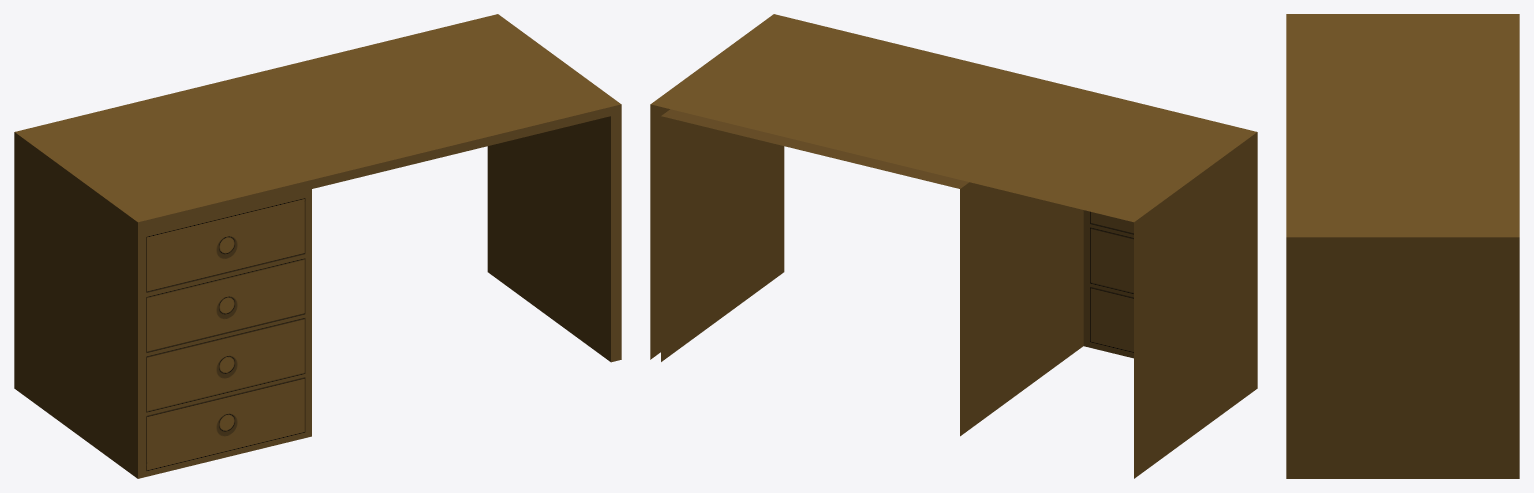
Rendered from Study_table.fbx.
3 renders of one model, left to right at view 1: azimuth 30°, elevation 25°; view 2: azimuth 150°, elevation 25°; view 3: azimuth 270°, elevation 25°, orthographic. The views are drawn at different scales.
Visible parts, largest first — view 1: Study_Table; view 2: Study_Table; view 3: Study_Table.
Part boxes in pixels (left/top/right/bottom): Study_Table: left=14, top=14, right=621, bottom=478; Study_Table: left=650, top=14, right=1257, bottom=478; Study_Table: left=1286, top=14, right=1519, bottom=478.
Size of the model in its own units: 304 by 154 by 134.
